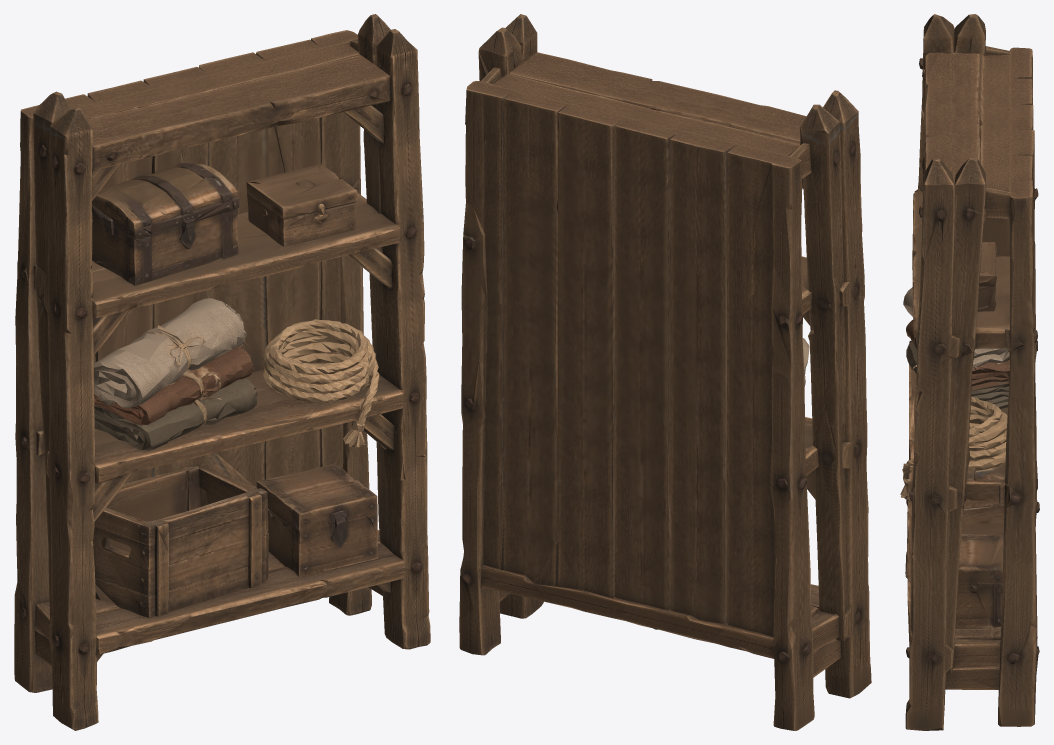
File: tall-shelf.glb
3 renders of one model, left to right at view 1: azimuth 30°, elevation 25°; view 2: azimuth 150°, elevation 25°; view 3: azimuth 270°, elevation 25°, orthographic. The views are drawn at different scales.
Size of the model in its own units: 1.19 by 1.9 by 0.4278.
1 material, 1 textured.
